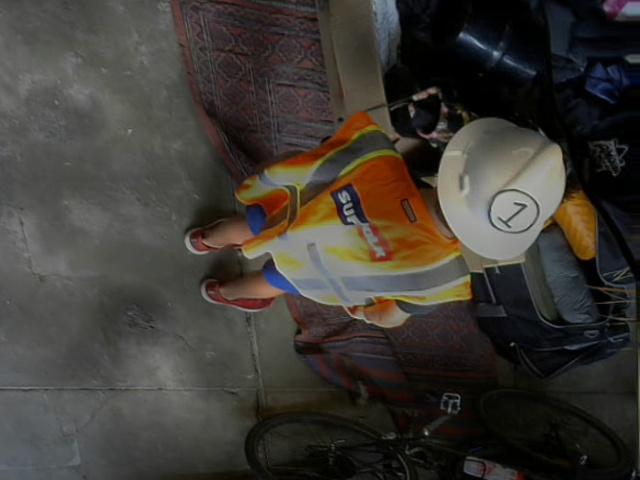one: (487, 188, 540, 230)
